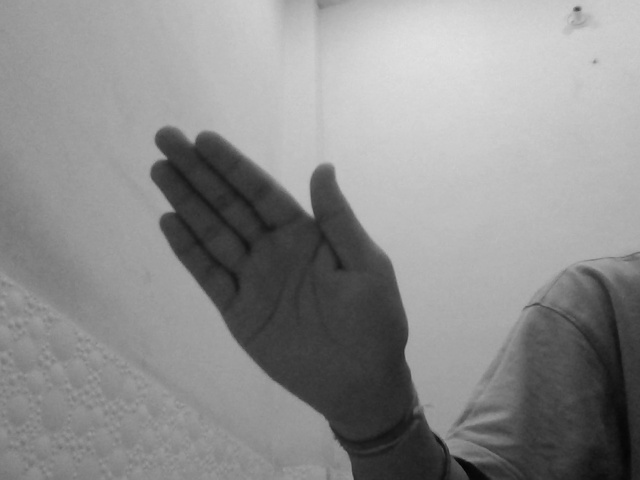Hello: (136, 122, 424, 440)
